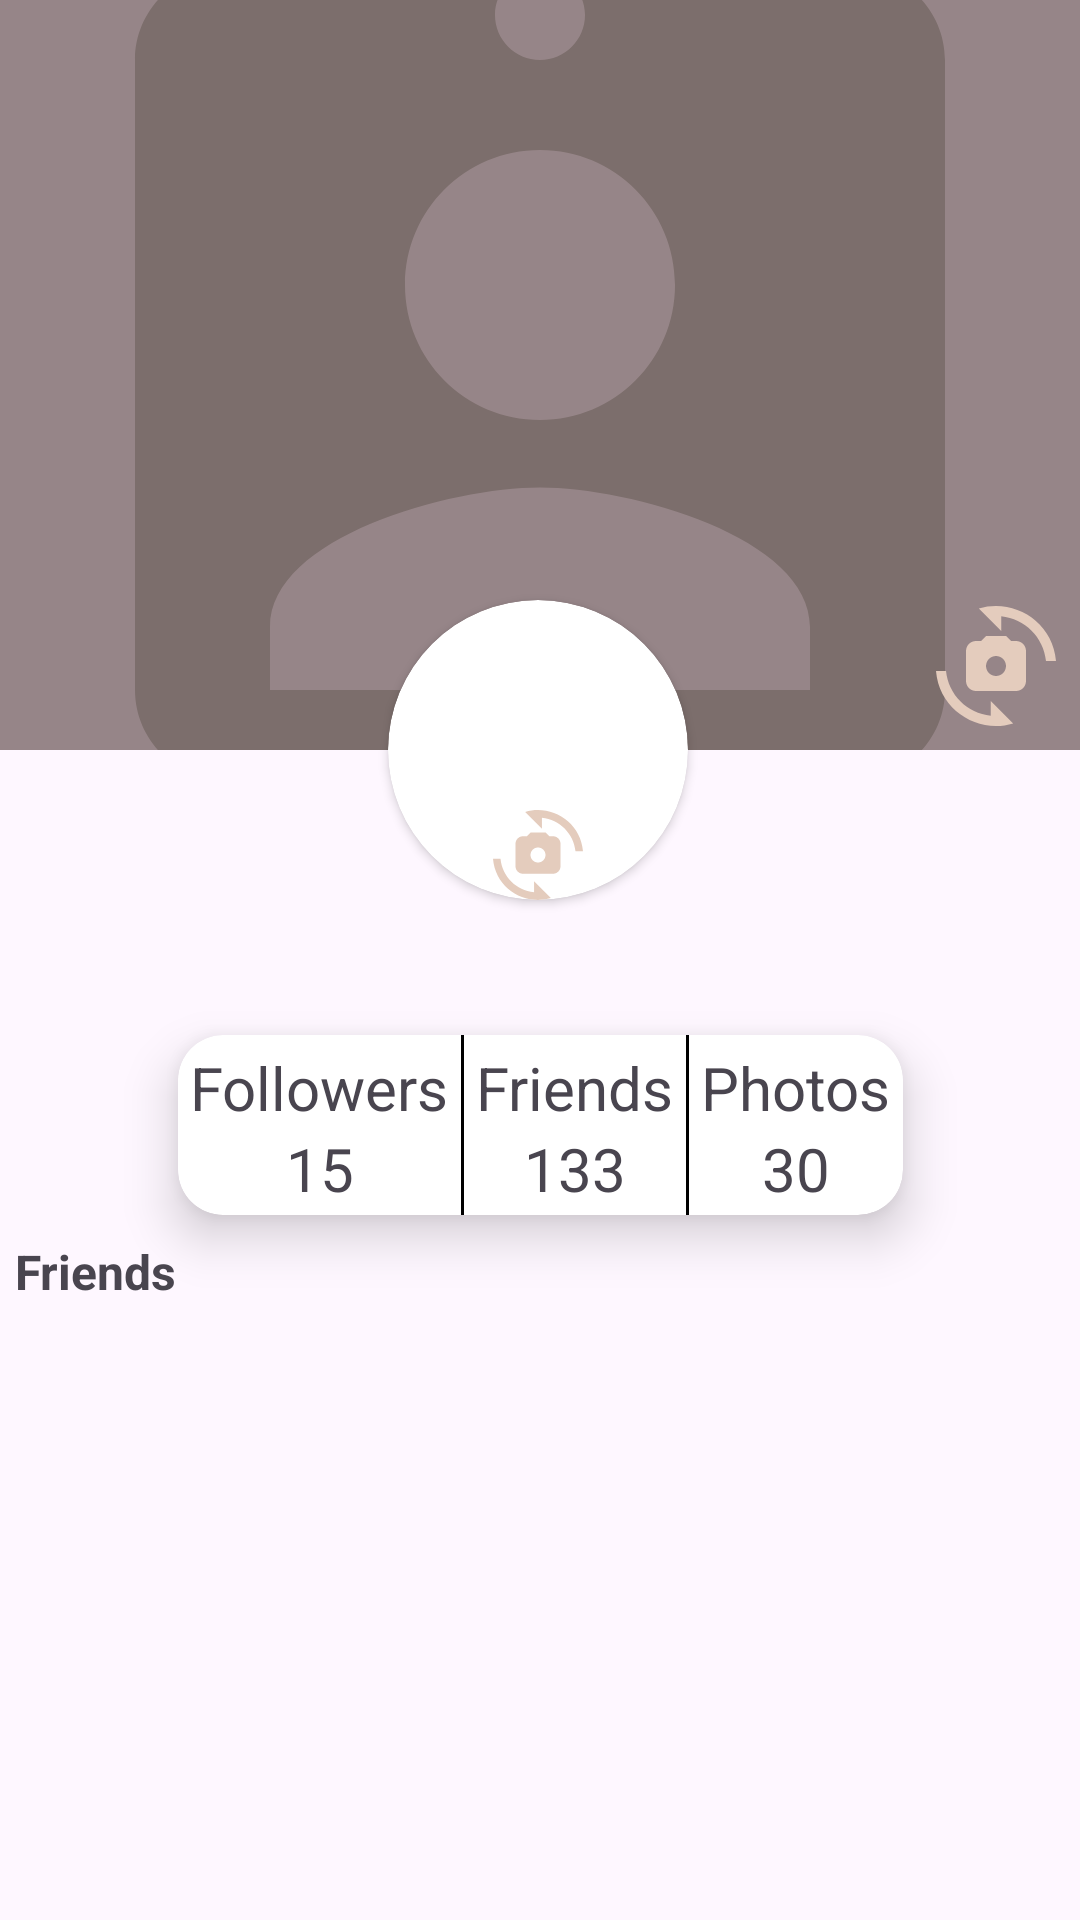

Screen size 1080px x 1920px. Icon name, then its center in pixels as (x=x, y=y):
upload profile: (x=1011, y=648), (x=549, y=842)
